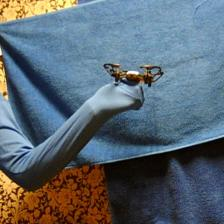drone: (104, 62, 166, 90)
